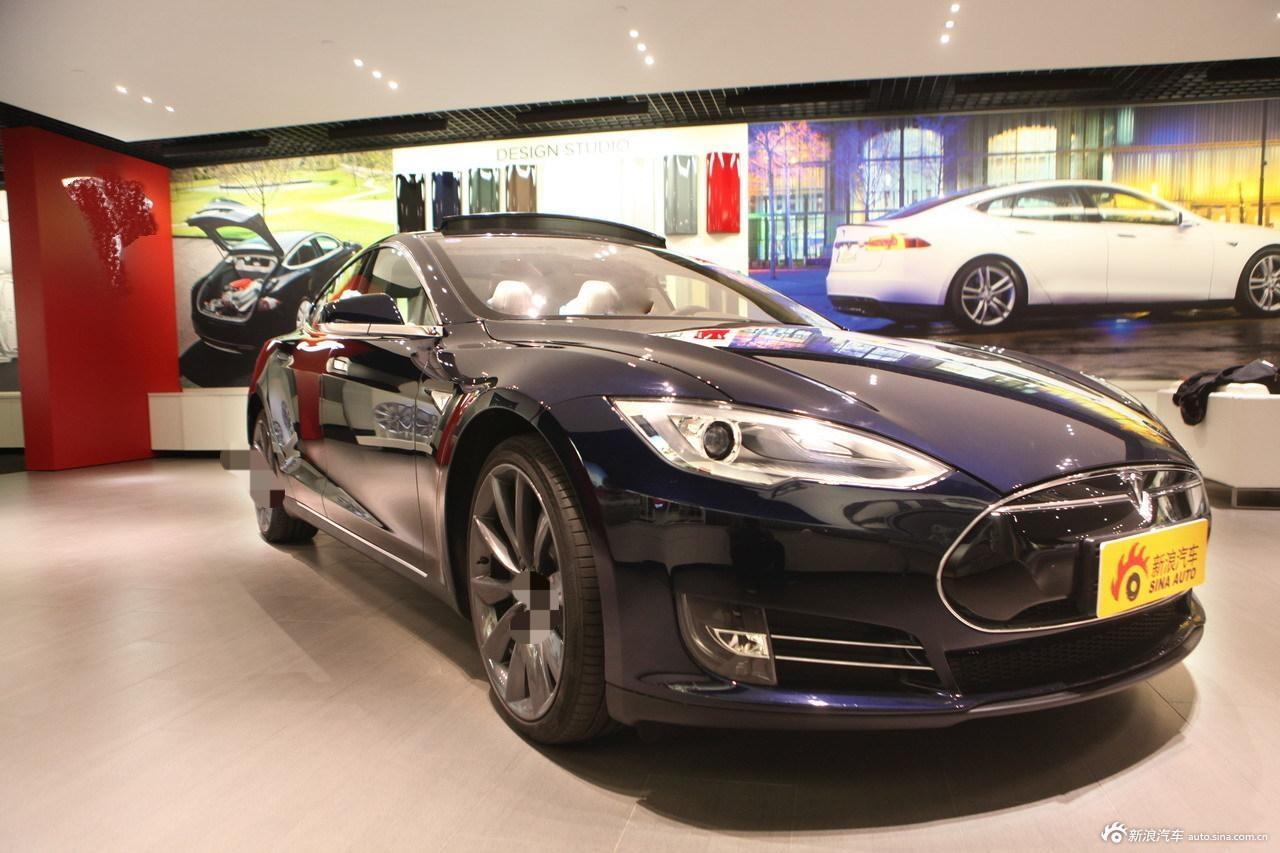Tesla: (1119, 467, 1146, 511)
